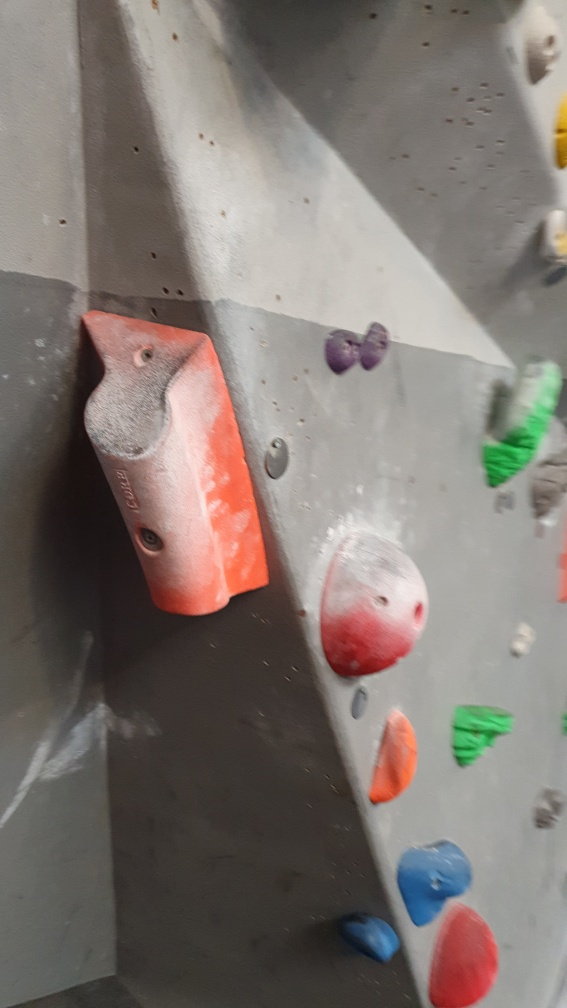Hand Start: (261, 434, 295, 484), (346, 682, 373, 724)
Jug: (481, 349, 558, 493), (448, 699, 515, 766)
Pinch: (78, 303, 266, 613)
Sloper: (312, 525, 433, 679), (416, 893, 506, 1008)
